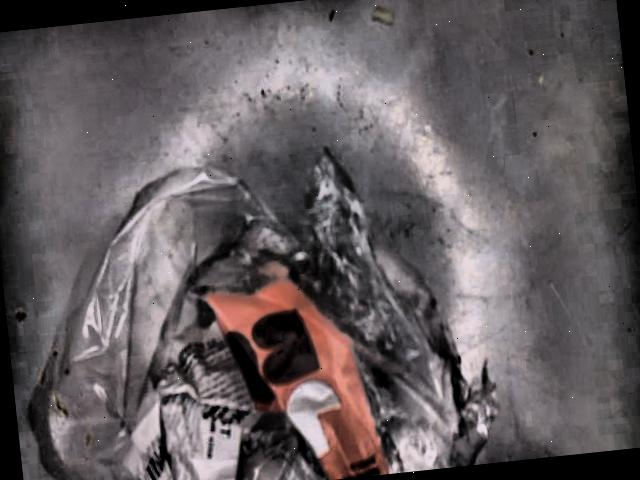Plastic: (30, 146, 496, 480)
